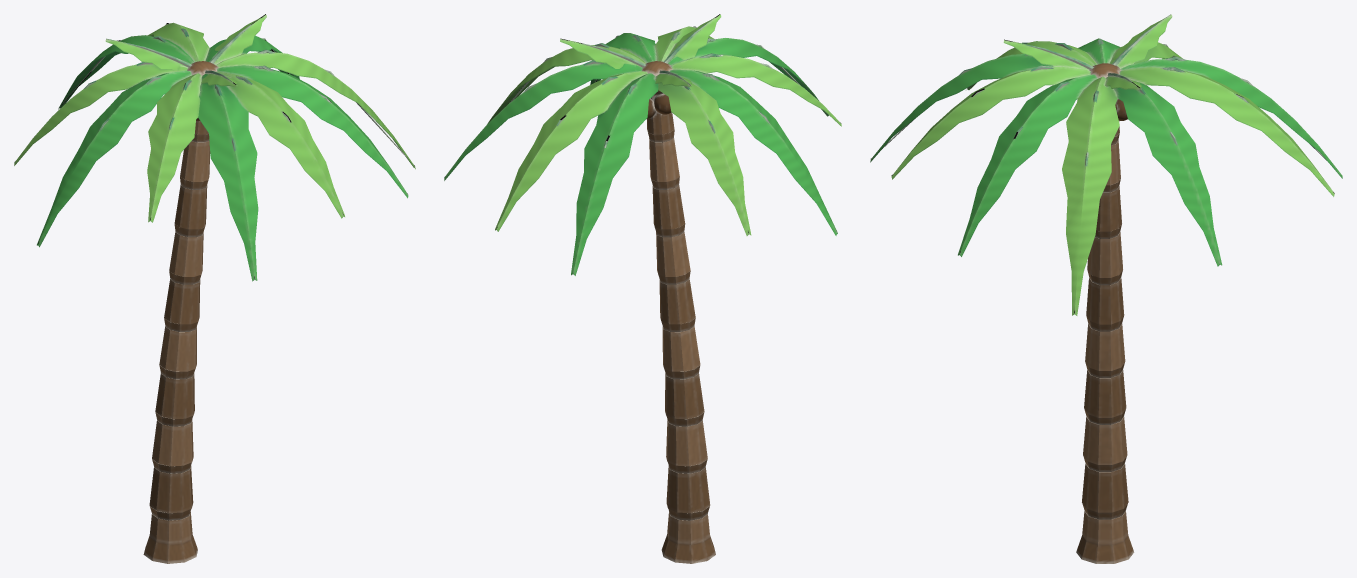
Rendered from palm_tree.glb.
3 views of the same model, side by side, from view 1: azimuth 30°, elevation 25°; view 2: azimuth 150°, elevation 25°; view 3: azimuth 270°, elevation 25° (orthographic). The views are drawn at different scales.
Parts seen in each view (by area): view 1: SM_PalmTree; view 2: SM_PalmTree; view 3: SM_PalmTree.
Boxes of the visible parts, <box> form: SM_PalmTree: <box>14,14,415,563</box>; SM_PalmTree: <box>444,14,841,563</box>; SM_PalmTree: <box>870,14,1342,563</box>.
Size of what is drawn, in the model's own units: 5.22 by 6.72 by 5.52.
Materials: 1 (1 with a texture image).
